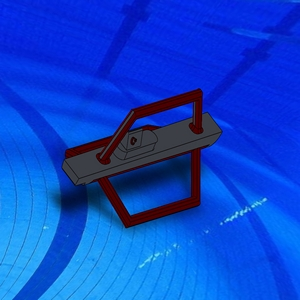submarine: (60, 85, 226, 230)
